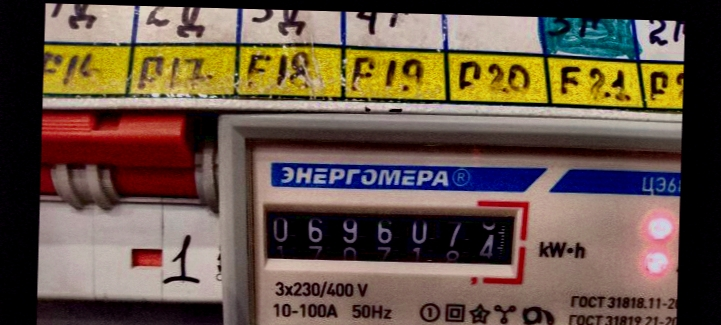0: (407, 216, 427, 247), (268, 215, 287, 244)
4: (476, 233, 493, 262)
6: (372, 217, 392, 247), (303, 215, 323, 244)
7: (443, 219, 461, 250)
9: (338, 217, 356, 246)
screen: (245, 188, 533, 285)
